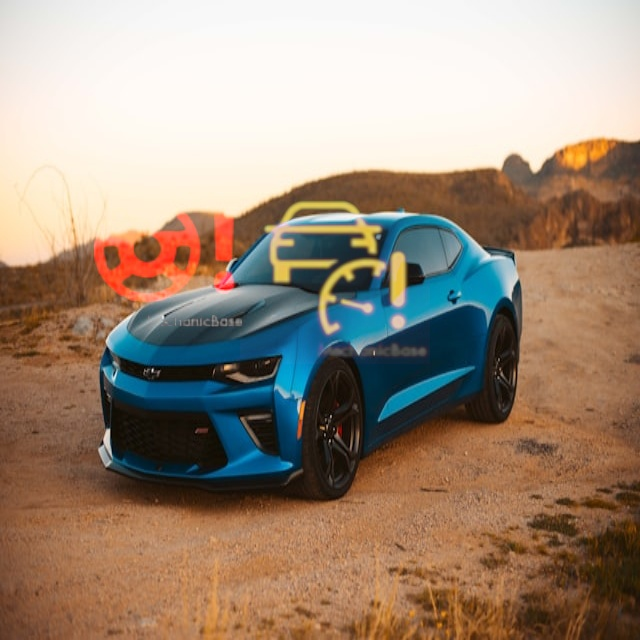symbol: (240, 174, 430, 364), (80, 166, 249, 335)
